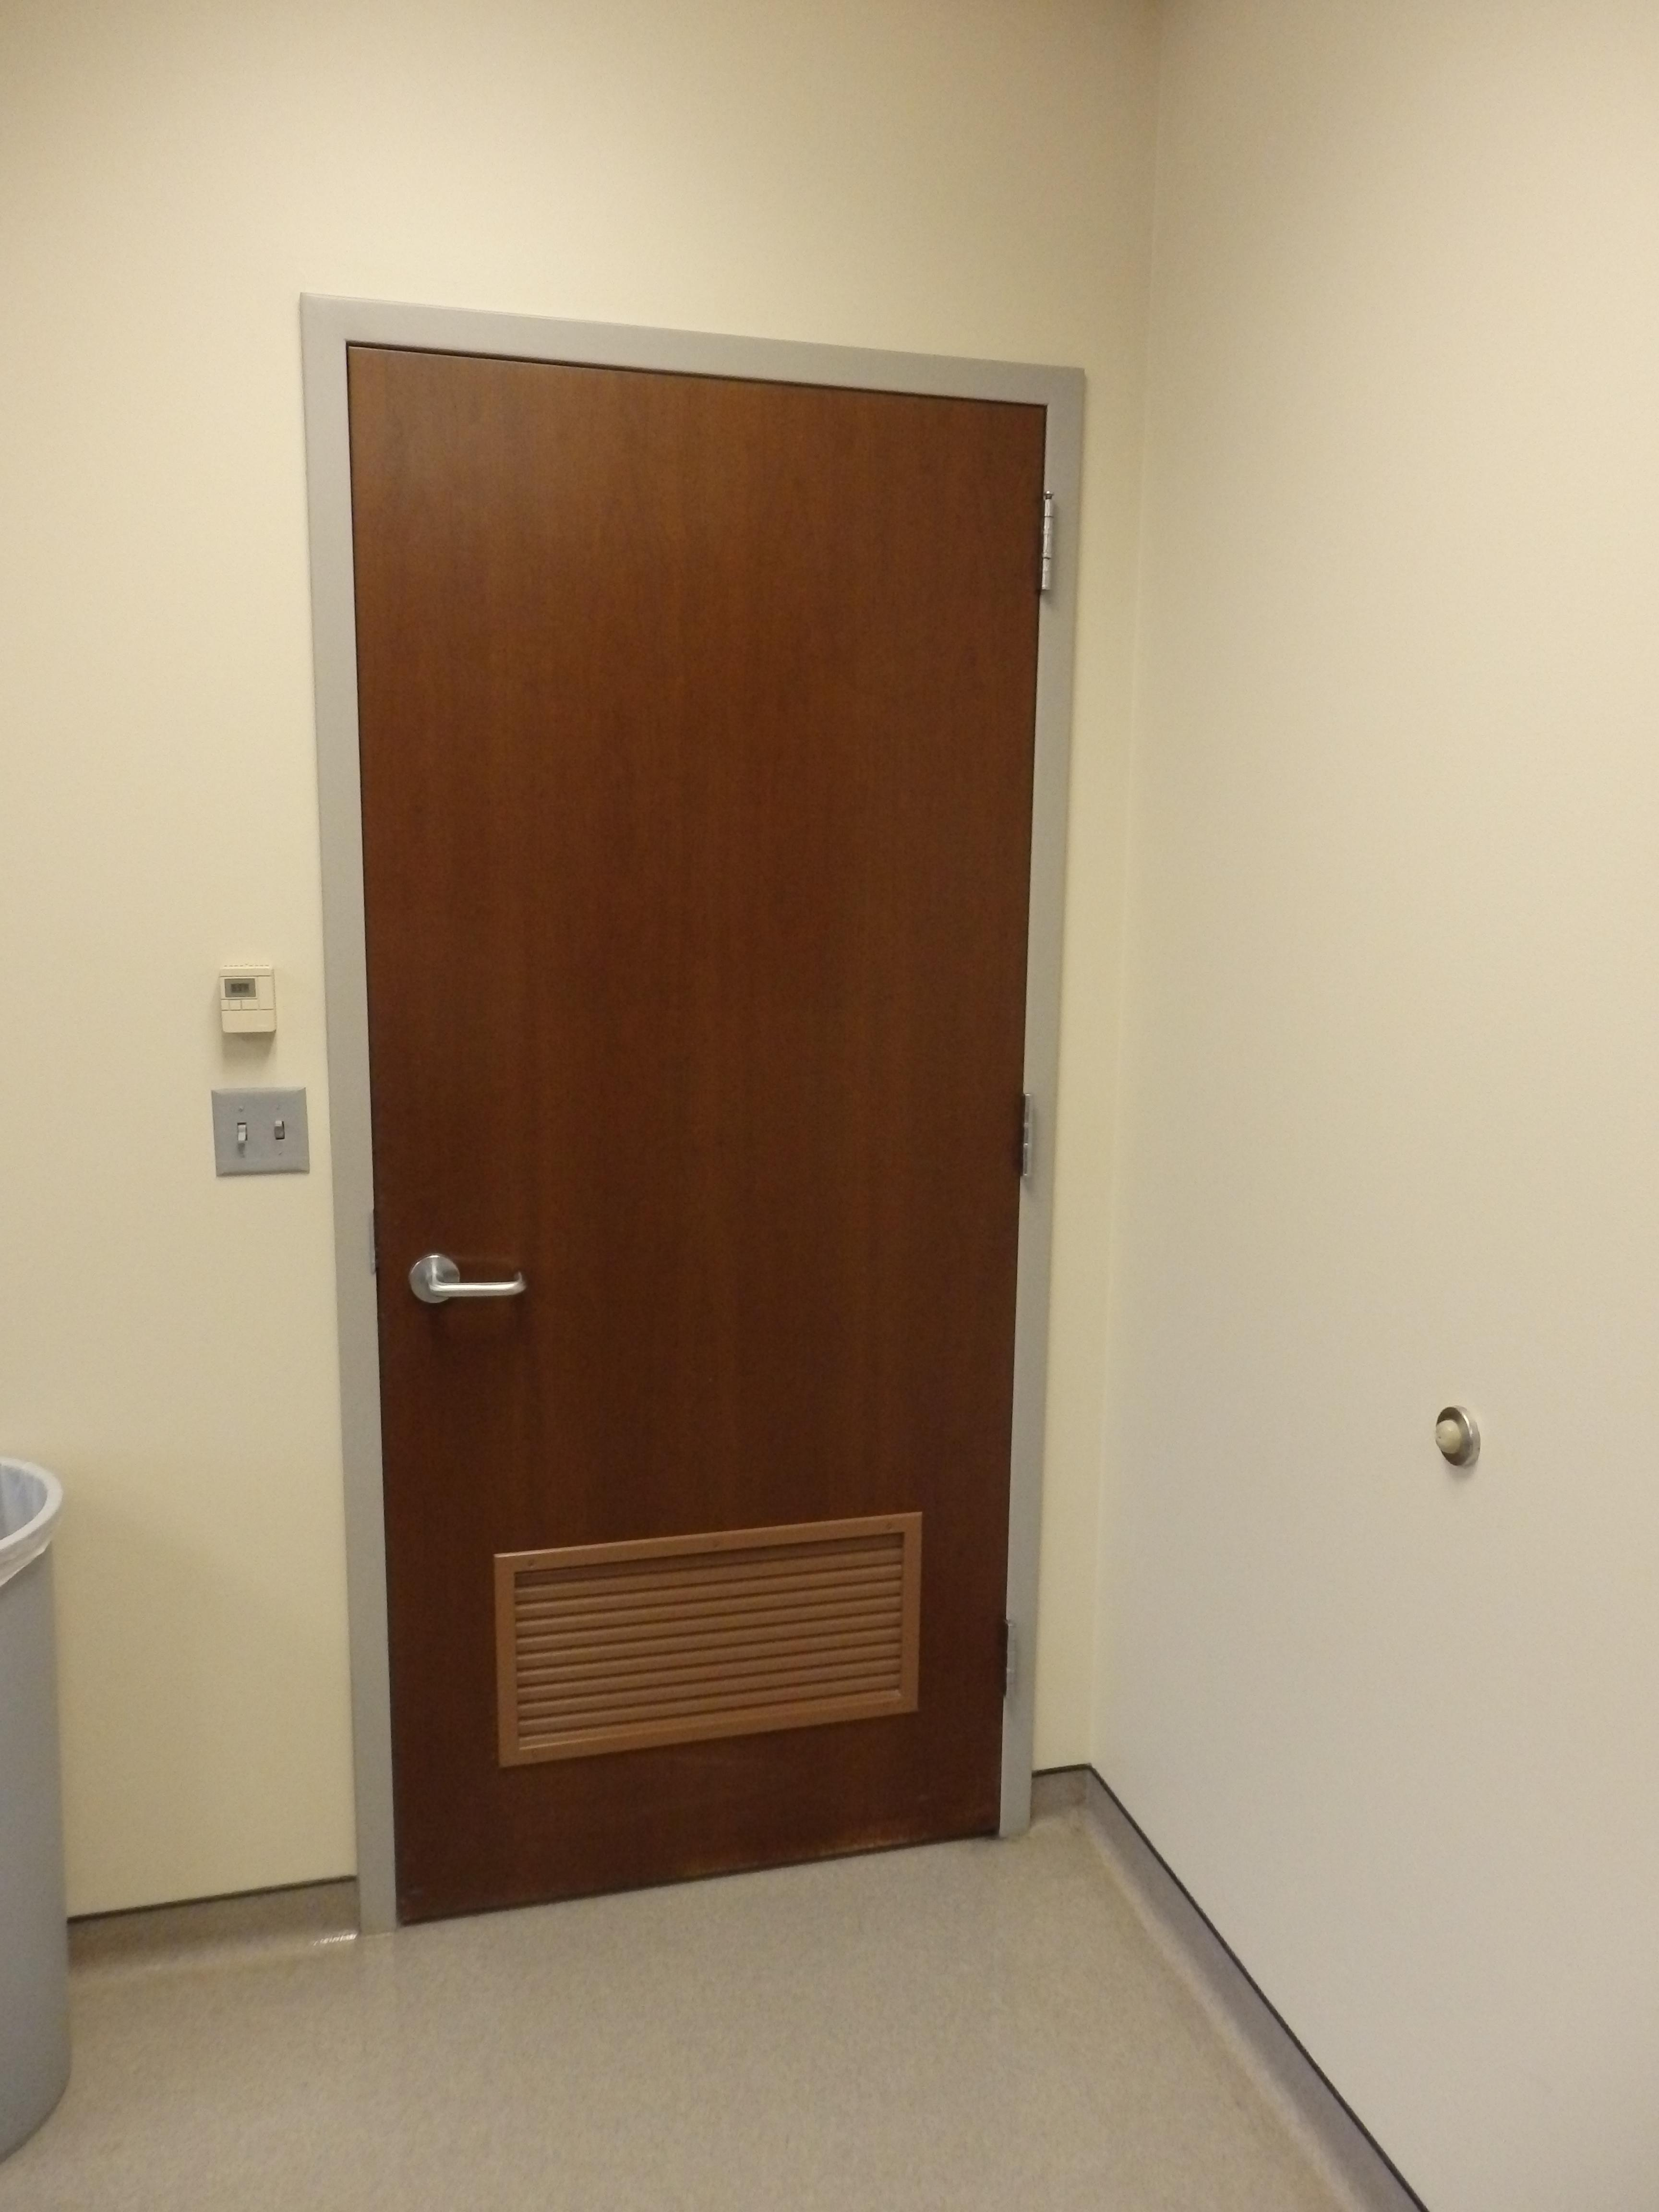door: (333, 327, 1044, 1885)
